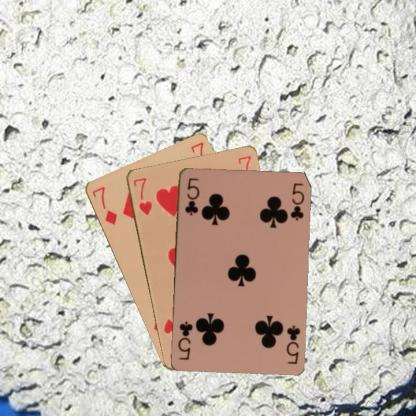5c: (283, 322, 301, 366), (182, 175, 200, 217)
7d: (89, 184, 118, 226)
7h: (131, 175, 153, 216)
